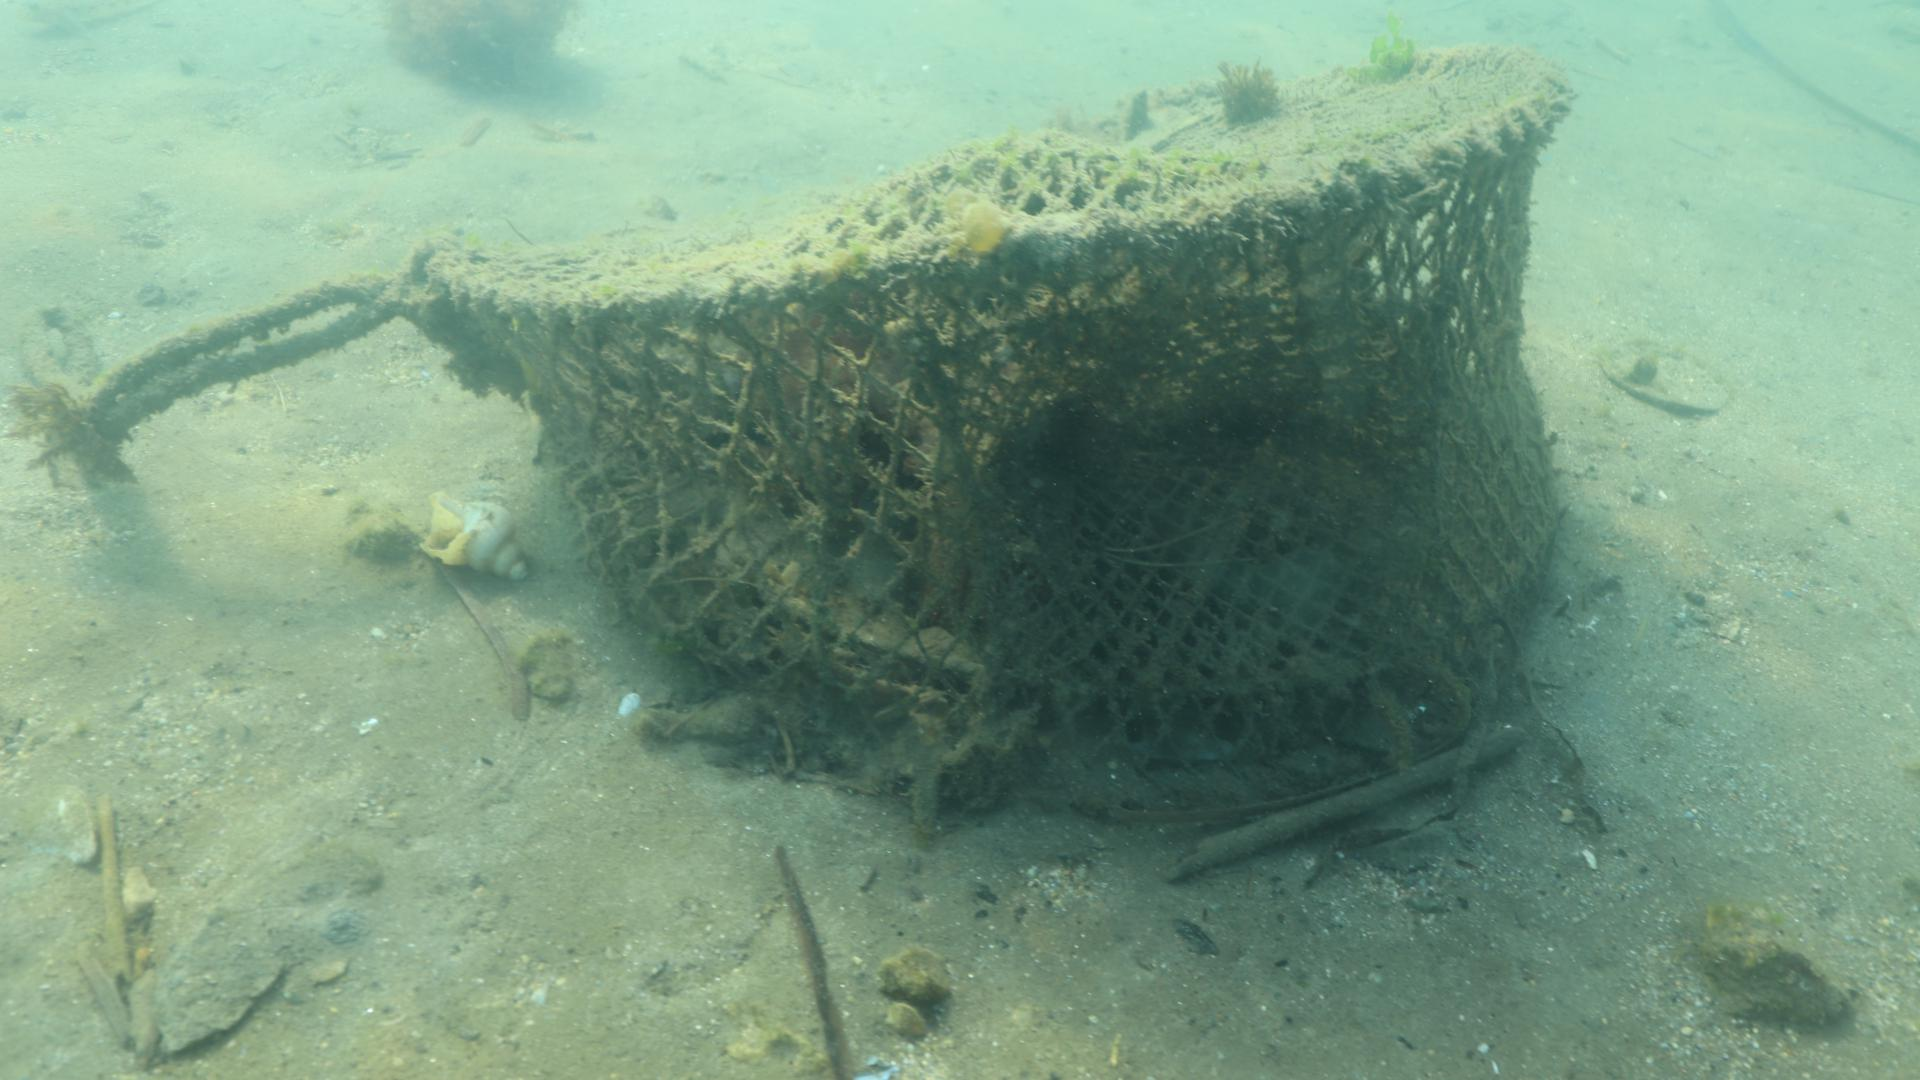bundle of ropes: (15, 272, 396, 467)
circular fish trap: (417, 42, 1578, 832)
